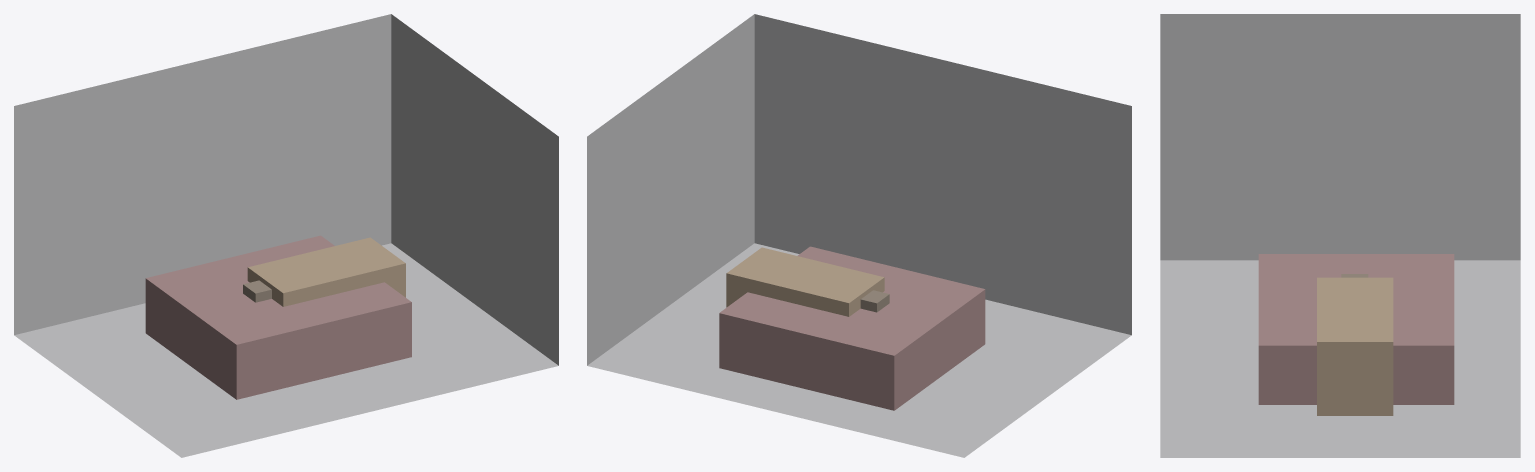
File: current_layout.glb
The picture shows the model from 3 angles, left to right: view 1: azimuth 30°, elevation 25°; view 2: azimuth 150°, elevation 25°; view 3: azimuth 270°, elevation 25°; orthographic projection. The views are drawn at different scales.
Parts seen in each view (by area): view 1: room, bed, desk; view 2: room, bed, desk; view 3: room, bed, desk.
Boxes of the visible parts, left/top/right/bottom form: room: left=14, top=14, right=558, bottom=457; bed: left=145, top=235, right=411, bottom=399; desk: left=247, top=237, right=405, bottom=306; room: left=587, top=14, right=1131, bottom=457; bed: left=719, top=246, right=985, bottom=410; desk: left=726, top=247, right=884, bottom=316; room: left=1160, top=14, right=1520, bottom=457; bed: left=1258, top=254, right=1454, bottom=404; desk: left=1317, top=277, right=1393, bottom=415.
Size of the model in its own units: 4.31 by 2.5 by 3.31.
